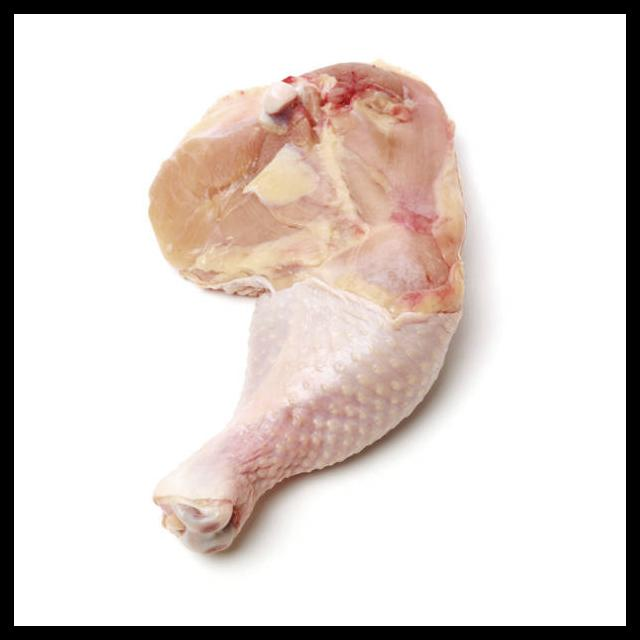chicken: (145, 57, 471, 559)
